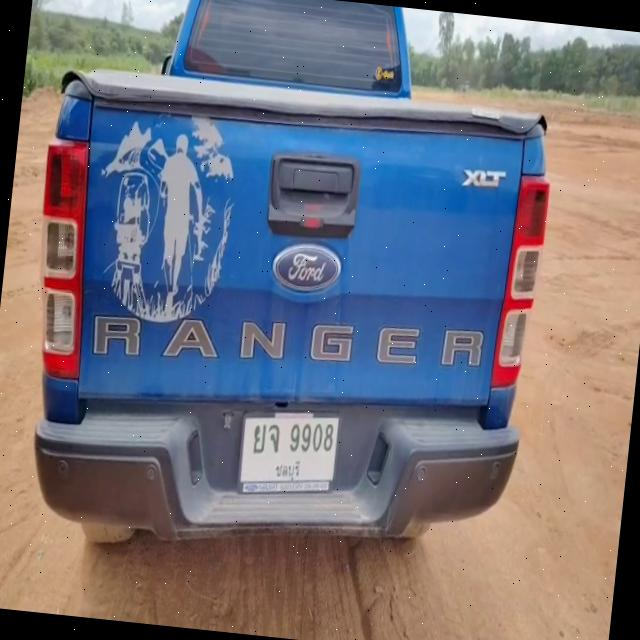Digit: (286, 418, 336, 458)
Licenseplate: (235, 404, 344, 501)
Provincename: (274, 454, 304, 482)
Thaichar: (252, 420, 282, 458)
